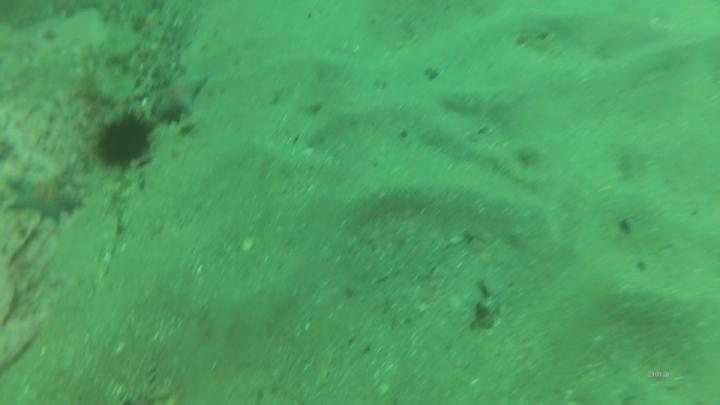echinus: (98, 108, 154, 167)
starfish: (5, 171, 81, 225), (147, 75, 210, 123)
